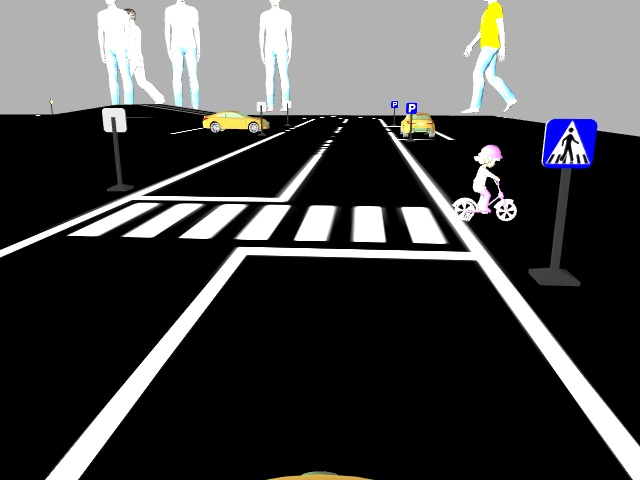Crosswalk: (539, 118, 598, 168)
Parking: (405, 102, 418, 114), (389, 99, 399, 108)
Pedestrian: (451, 143, 519, 224)
